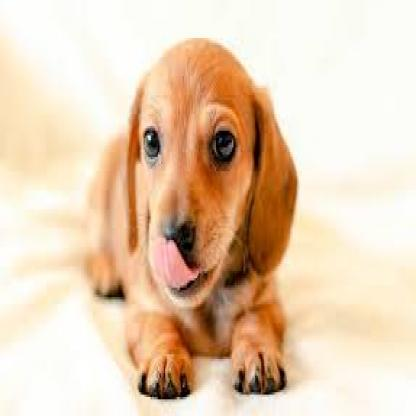dog: (48, 23, 310, 400)
